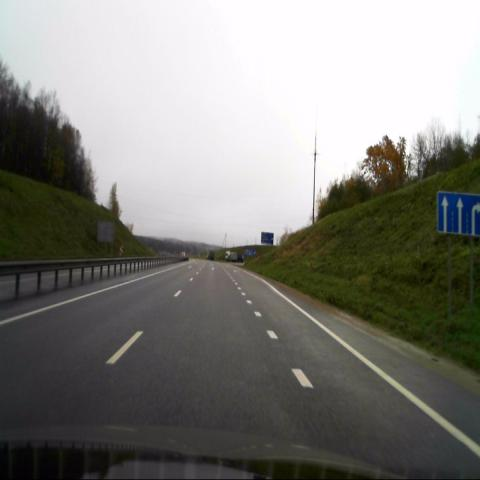5_15_1: (436, 193, 478, 235)
